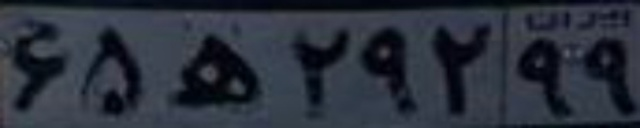2: (287, 27, 348, 118), (430, 23, 491, 113)
5: (78, 23, 143, 118)
6: (13, 22, 66, 113)
9: (355, 26, 421, 115), (511, 34, 572, 118), (578, 35, 637, 116)
he: (167, 33, 263, 107)
